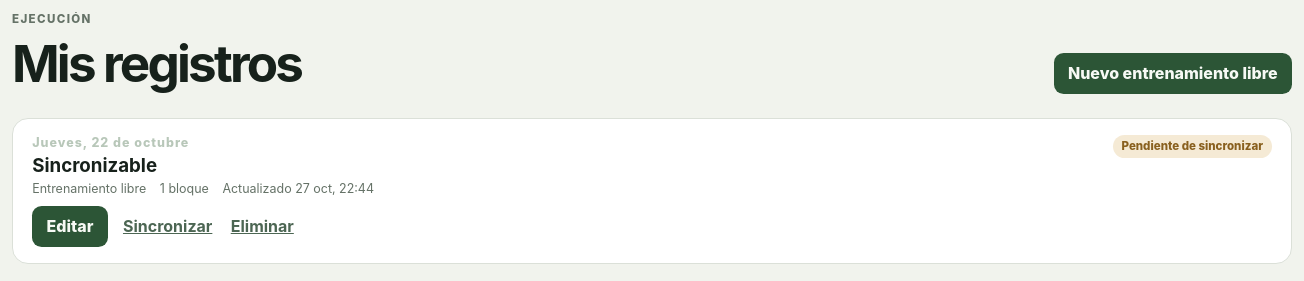
ExecutionRecordsScreen › synchronizes a pending draft from the records list
Check: the heading "Sincronizable" is shown, box x1=32 y1=154 x2=157 y2=177
Click the button with aria-label "Sincronizar Sincronizable" at (168, 226), box x1=120 y1=211 x2=216 y2=242
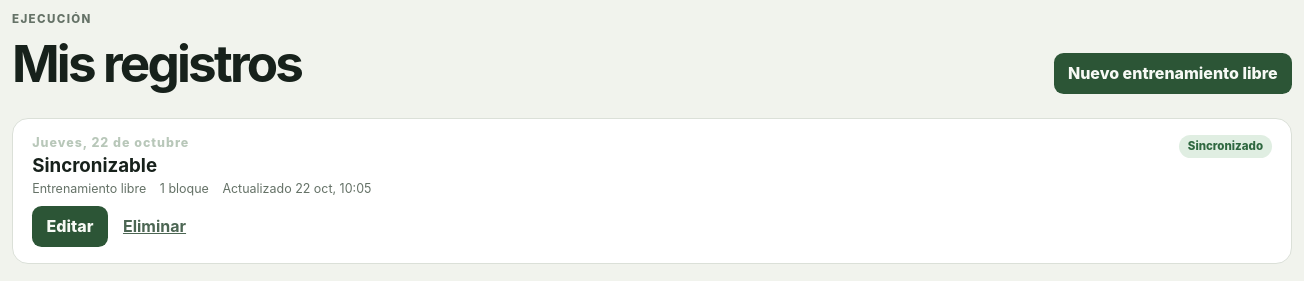
Check: the text "Sincronizado" is shown, box x1=1179 y1=135 x2=1272 y2=158
